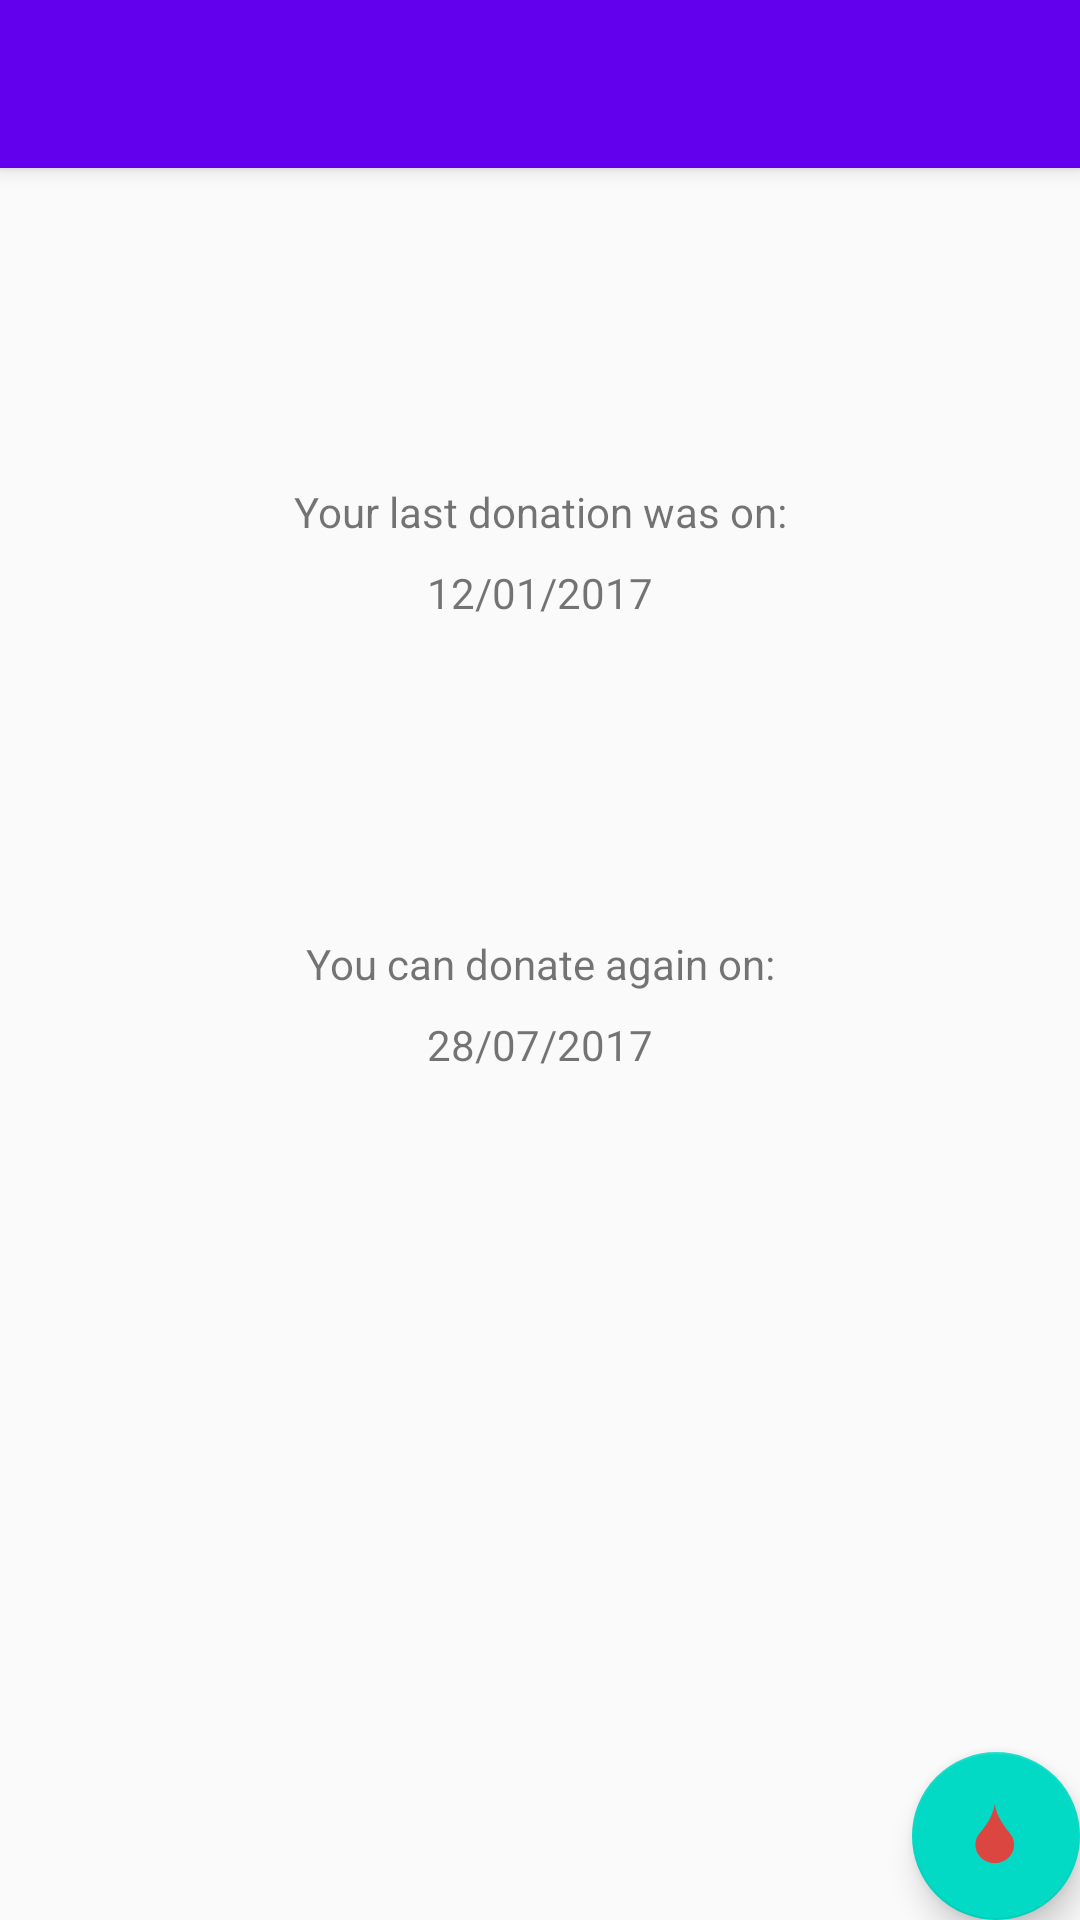

Icon click points for this 1080x1920 phone screenshot, format point (x, y):
add donation: point (996, 1836)
